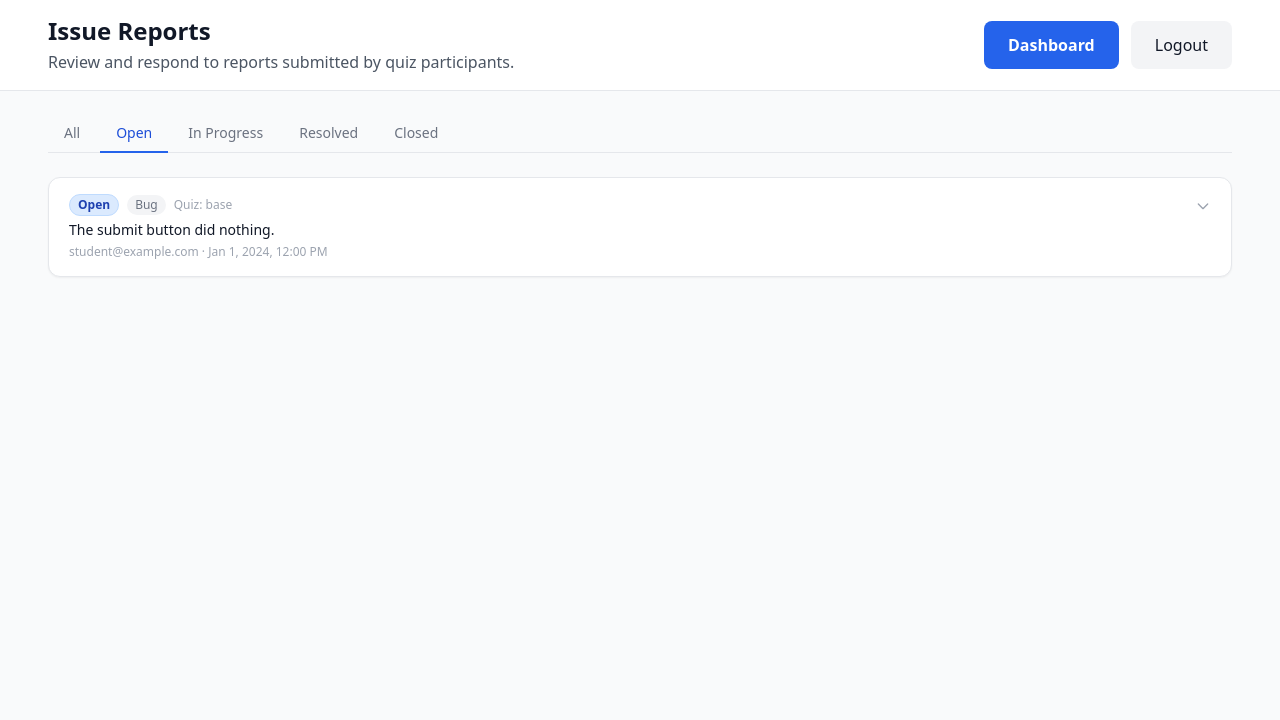
Test: ReportsPanelPage › disables the post comment button when the textarea is empty
Click the text "The submit button did nothing.".
click(172, 230)  # box [69,220,274,239]
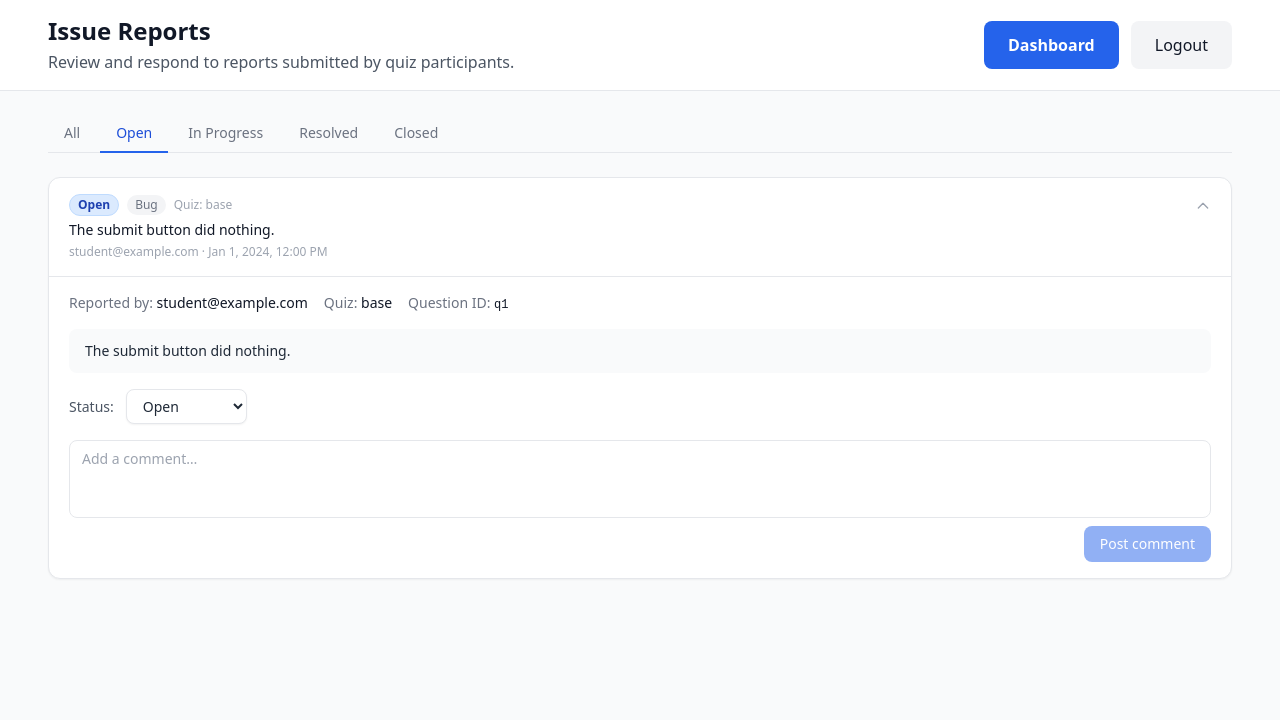
Result: the text box with placeholder "Add a comment…" is shown at [69,440,1211,518]
Result: the button "Post comment" is disabled at [1084,526,1211,562]
